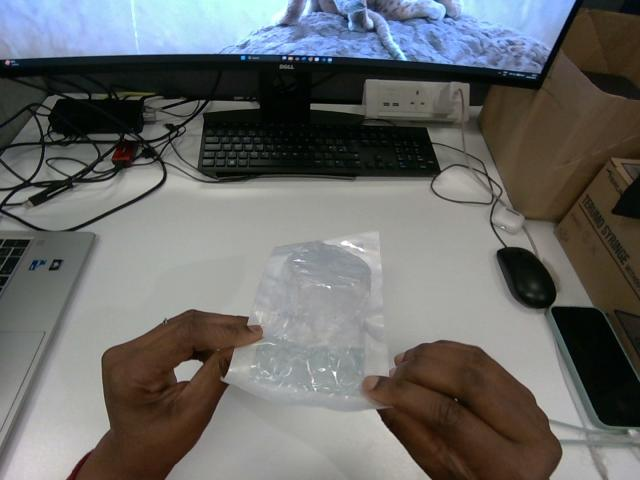gallipot: (224, 232, 388, 410)
